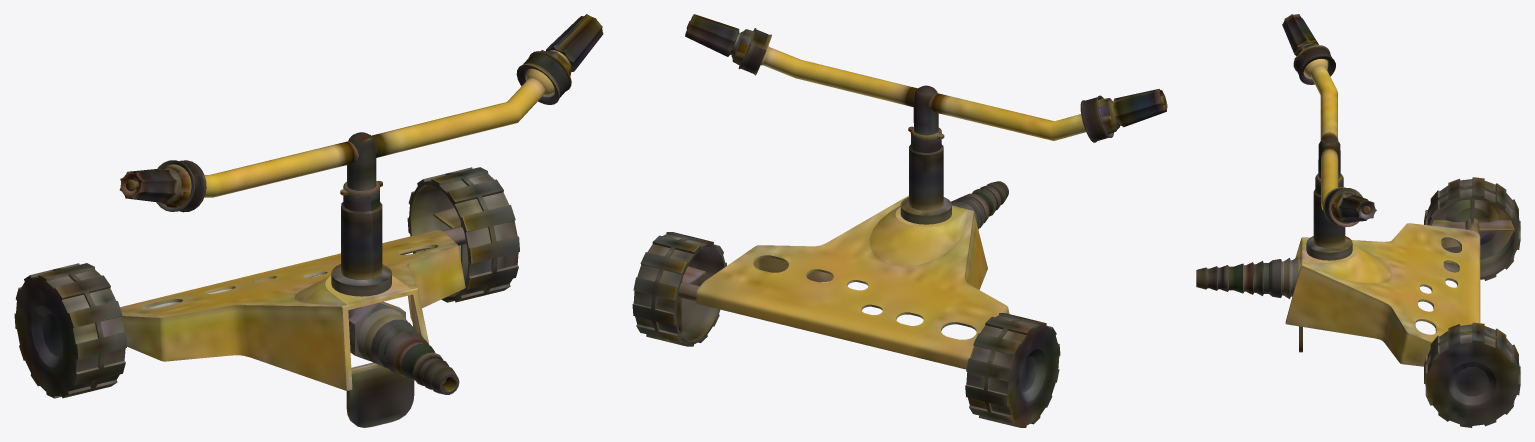
3 views of the same model, side by side, from view 1: azimuth 30°, elevation 25°; view 2: azimuth 150°, elevation 25°; view 3: azimuth 270°, elevation 25° (orthographic). The views are drawn at different scales.
Parts seen in each view (by area): view 1: garden_sprinkler_01_body_main, garden_sprinkler_01_wheels, garden_sprinkler_01_spinner, garden_sprinkler_01_nozel_left, garden_sprinkler_01_nozel_right; view 2: garden_sprinkler_01_body_main, garden_sprinkler_01_wheels, garden_sprinkler_01_spinner, garden_sprinkler_01_nozel_left, garden_sprinkler_01_nozel_right; view 3: garden_sprinkler_01_body_main, garden_sprinkler_01_wheels, garden_sprinkler_01_spinner, garden_sprinkler_01_nozel_left, garden_sprinkler_01_nozel_right.
Part boxes in pixels (<box>): garden_sprinkler_01_body_main: <box>120,181,465,427</box>; garden_sprinkler_01_wheels: <box>14,167,519,398</box>; garden_sprinkler_01_spinner: <box>204,68,554,197</box>; garden_sprinkler_01_nozel_left: <box>119,160,206,212</box>; garden_sprinkler_01_nozel_right: <box>516,14,603,104</box>; garden_sprinkler_01_body_main: <box>696,126,1009,369</box>; garden_sprinkler_01_wheels: <box>632,232,1060,427</box>; garden_sprinkler_01_spinner: <box>761,46,1085,140</box>; garden_sprinkler_01_nozel_left: <box>1080,89,1167,142</box>; garden_sprinkler_01_nozel_right: <box>685,14,771,75</box>; garden_sprinkler_01_body_main: <box>1196,174,1480,366</box>; garden_sprinkler_01_wheels: <box>1424,177,1520,427</box>; garden_sprinkler_01_spinner: <box>1303,59,1340,210</box>; garden_sprinkler_01_nozel_left: <box>1282,14,1335,84</box>; garden_sprinkler_01_nozel_right: <box>1323,187,1376,226</box>.
Bounding box in the file's own units: 0.3508 × 0.203 × 0.2491.
1 material, 1 textured.
